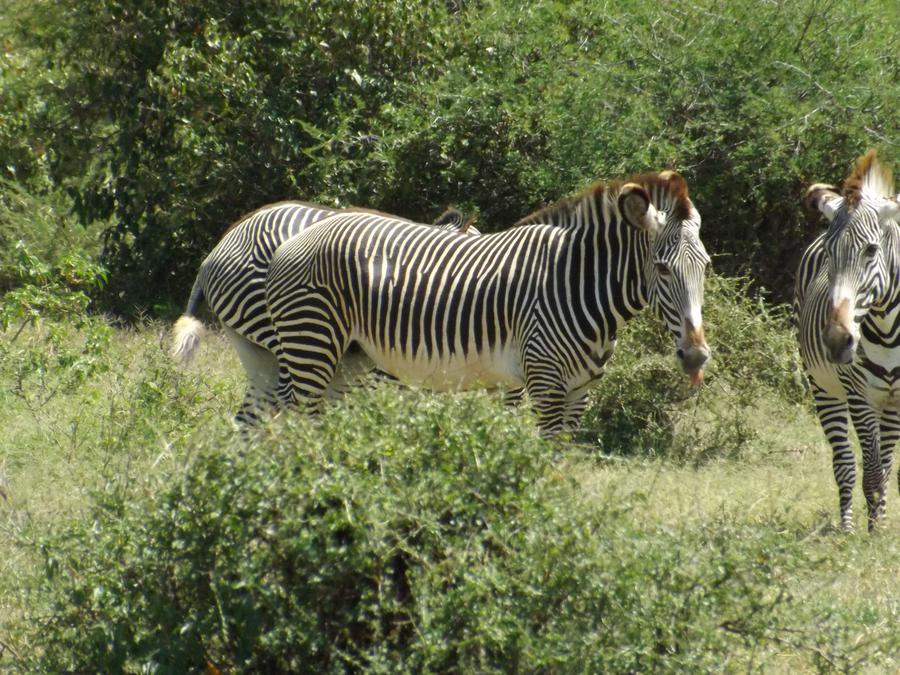zebra_grevys: (272, 192, 587, 386)
